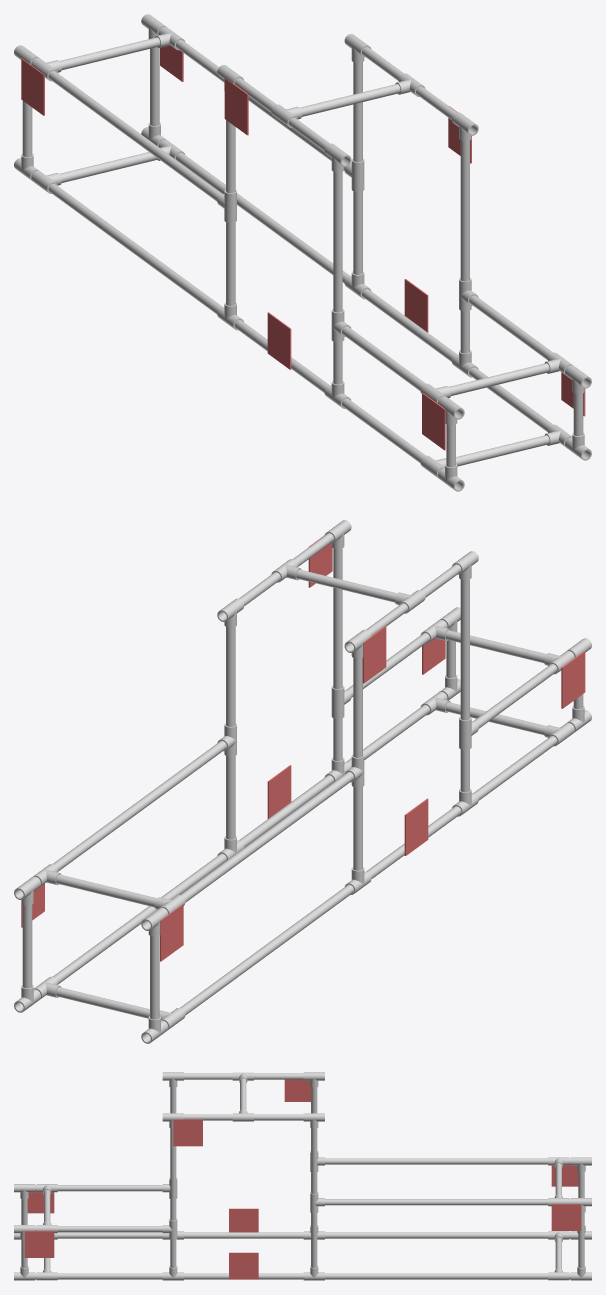
Rendered from coral_garden.glb.
The picture shows the model from 3 angles, top to bottom: view 1: azimuth 30°, elevation 25°; view 2: azimuth 150°, elevation 25°; view 3: azimuth 270°, elevation 25°; orthographic projection. The views are drawn at different scales.
Parts seen in each view (by area): view 1: 1/2_in_PVC_Pipe (×22), Part 1 (×6); view 2: 1/2_in_PVC_Pipe (×23), Part 1 (×5); view 3: 1/2_in_PVC_Pipe (×18), Part 1 (×8).
Part boxes in pixels (box(x1,y1,x2,y2)): 1/2_in_PVC_Pipe (×22): box(48, 37, 553, 466); Part 1 (×6): box(21, 45, 445, 450); 1/2_in_PVC_Pipe (×23): box(22, 548, 557, 1019); Part 1 (×5): box(160, 626, 585, 961); 1/2_in_PVC_Pipe (×18): box(57, 1073, 584, 1279); Part 1 (×8): box(24, 1079, 581, 1279).
Bounding box in the file's own units: 0.3607 × 0.6205 × 1.95.
